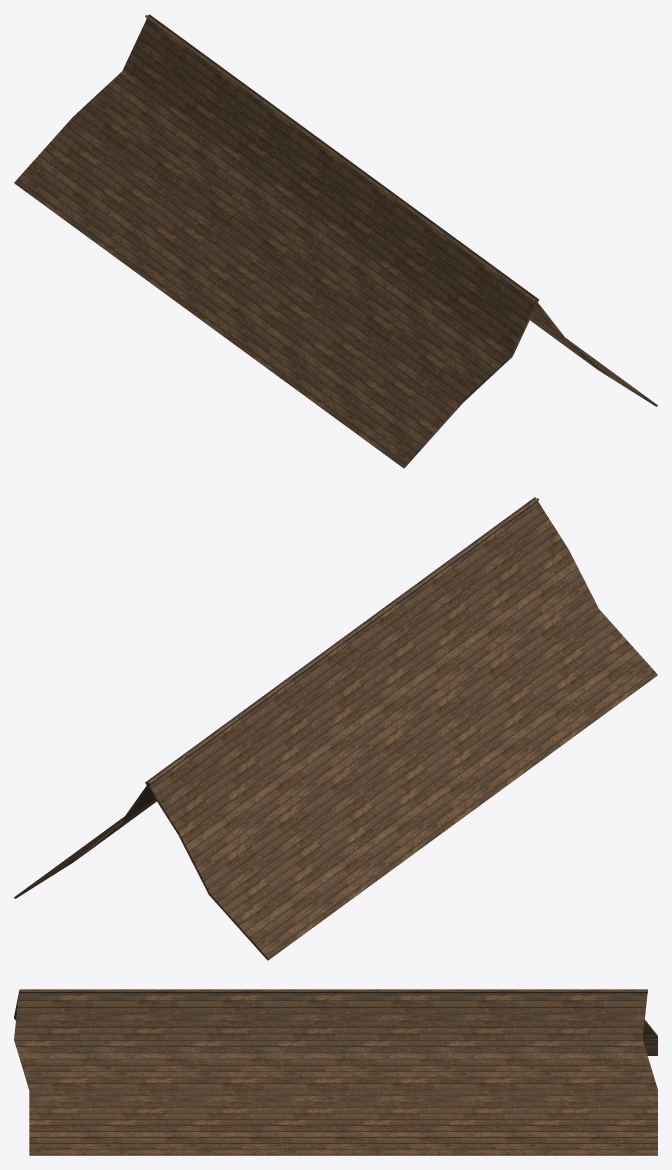
The model's file is roof cover.fbx.
3 views of the same model, one above another, from view 1: azimuth 30°, elevation 25°; view 2: azimuth 150°, elevation 25°; view 3: azimuth 270°, elevation 25° (orthographic). The views are drawn at different scales.
Visible parts, largest first — view 1: roof cover; view 2: roof cover; view 3: roof cover.
Boxes of the visible parts, x1=… form: roof cover: x1=14, y1=14, x2=657, y2=468; roof cover: x1=14, y1=497, x2=657, y2=960; roof cover: x1=14, y1=989, x2=657, y2=1155.
Size of the model in its own units: 813 by 436 by 2199.
